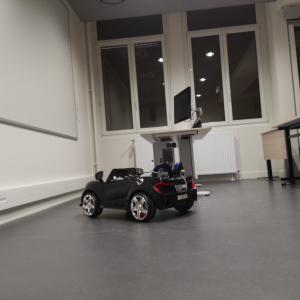big: (78, 163, 198, 223)
